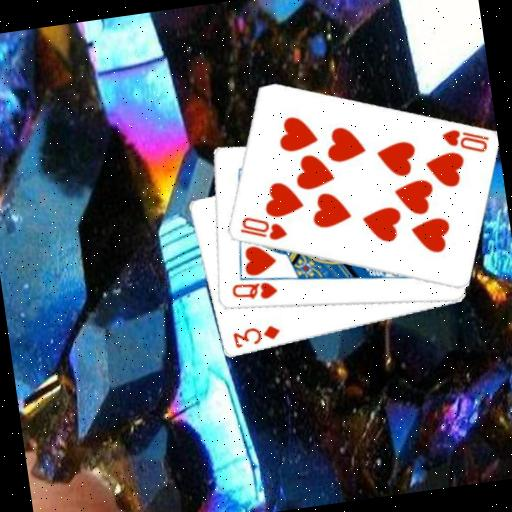10H: (235, 209, 290, 247), (437, 122, 492, 160)
3D: (229, 321, 284, 351)
QH: (227, 276, 280, 306)
